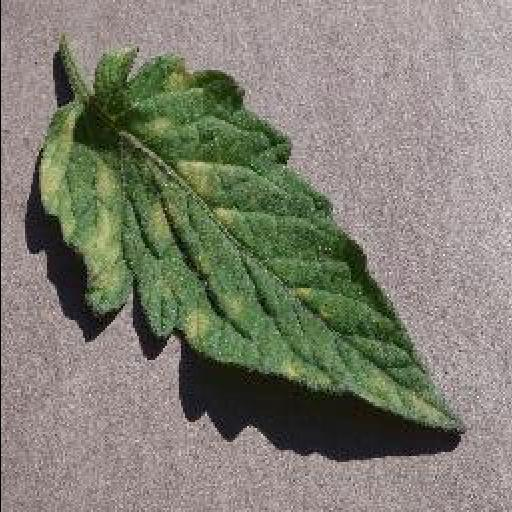disease_tomato: (38, 51, 468, 432)
